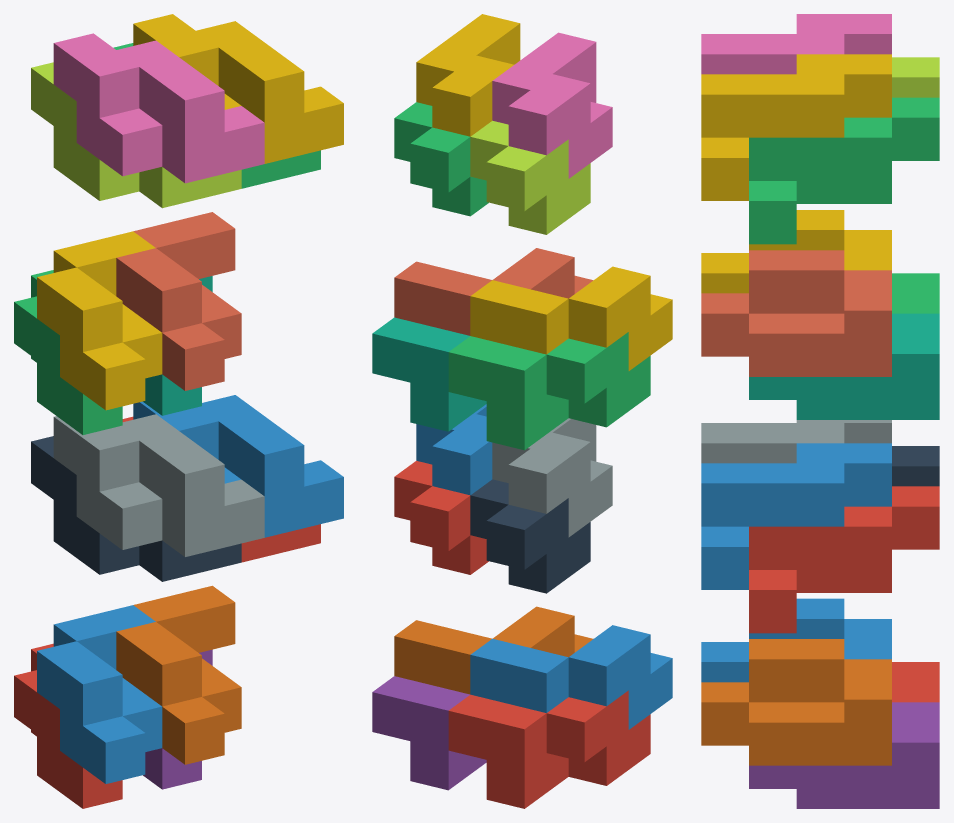
The model's file is tiling.obj.
The picture shows the model from 3 angles, left to right: view 1: azimuth 30°, elevation 25°; view 2: azimuth 150°, elevation 25°; view 3: azimuth 270°, elevation 25°; orthographic projection. The views are drawn at different scales.
Visible parts, largest first — view 1: copy_2_domain_4, copy_2_domain_2, copy_1_domain_6, copy_1_domain_8, copy_1_domain_4, copy_1_domain_2, copy_2_domain_8, copy_2_domain_6, copy_2_domain_1, copy_2_domain_3, copy_1_domain_1, copy_1_domain_3 (+4 smaller); view 2: copy_1_domain_3, copy_1_domain_1, copy_1_domain_4, copy_1_domain_2, copy_2_domain_4, copy_2_domain_2, copy_2_domain_8, copy_2_domain_1, copy_2_domain_3, copy_1_domain_8, copy_1_domain_6, copy_1_domain_5 (+4 smaller); view 3: copy_1_domain_6, copy_1_domain_8, copy_2_domain_6, copy_2_domain_8, copy_2_domain_5, copy_2_domain_7, copy_1_domain_5, copy_1_domain_7, copy_2_domain_4, copy_1_domain_4, copy_2_domain_2, copy_1_domain_2 (+4 smaller).
Boxes of the visible parts, box(x1,y1,x2,y2) form: copy_2_domain_4: box(53, 33, 264, 183); copy_2_domain_2: box(53, 414, 264, 556); copy_1_domain_6: box(116, 585, 241, 764); copy_1_domain_8: box(116, 212, 241, 390); copy_1_domain_4: box(37, 231, 162, 410); copy_1_domain_2: box(37, 605, 162, 783); copy_2_domain_8: box(133, 14, 343, 163); copy_2_domain_6: box(133, 395, 343, 537); copy_2_domain_1: box(31, 436, 241, 581); copy_2_domain_3: box(31, 62, 241, 208); copy_1_domain_1: box(14, 643, 122, 808); copy_1_domain_3: box(14, 270, 122, 434); copy_1_domain_3: box(448, 332, 650, 450); copy_1_domain_1: box(448, 690, 650, 808); copy_1_domain_4: box(470, 266, 672, 370); copy_1_domain_2: box(470, 625, 672, 729); copy_2_domain_4: box(492, 32, 612, 178); copy_2_domain_2: box(492, 418, 612, 537); copy_2_domain_8: box(416, 14, 520, 136); copy_2_domain_1: box(470, 479, 590, 593); copy_2_domain_3: box(470, 120, 590, 234); copy_1_domain_8: box(394, 248, 593, 335); copy_1_domain_6: box(394, 606, 593, 694); copy_1_domain_5: box(372, 676, 486, 790); copy_1_domain_6: box(701, 639, 891, 765); copy_1_domain_8: box(701, 250, 891, 376); copy_2_domain_6: box(701, 443, 891, 589); copy_2_domain_8: box(701, 54, 891, 200); copy_2_domain_5: box(749, 486, 939, 633); copy_2_domain_7: box(749, 97, 939, 244); copy_1_domain_5: box(749, 702, 939, 808); copy_1_domain_7: box(749, 313, 939, 419); copy_2_domain_4: box(701, 14, 891, 74); copy_1_domain_4: box(701, 210, 891, 293); copy_2_domain_2: box(701, 420, 891, 463); copy_1_domain_2: box(701, 598, 891, 682).
Size of the model in its own units: 6 by 17 by 5.
